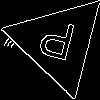P: (33, 17, 78, 71)
